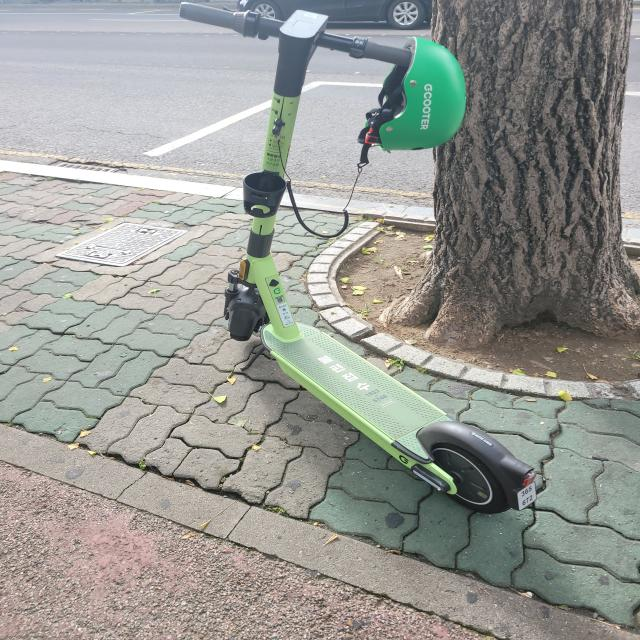bike: (184, 0, 538, 517)
car: (233, 0, 441, 31)
